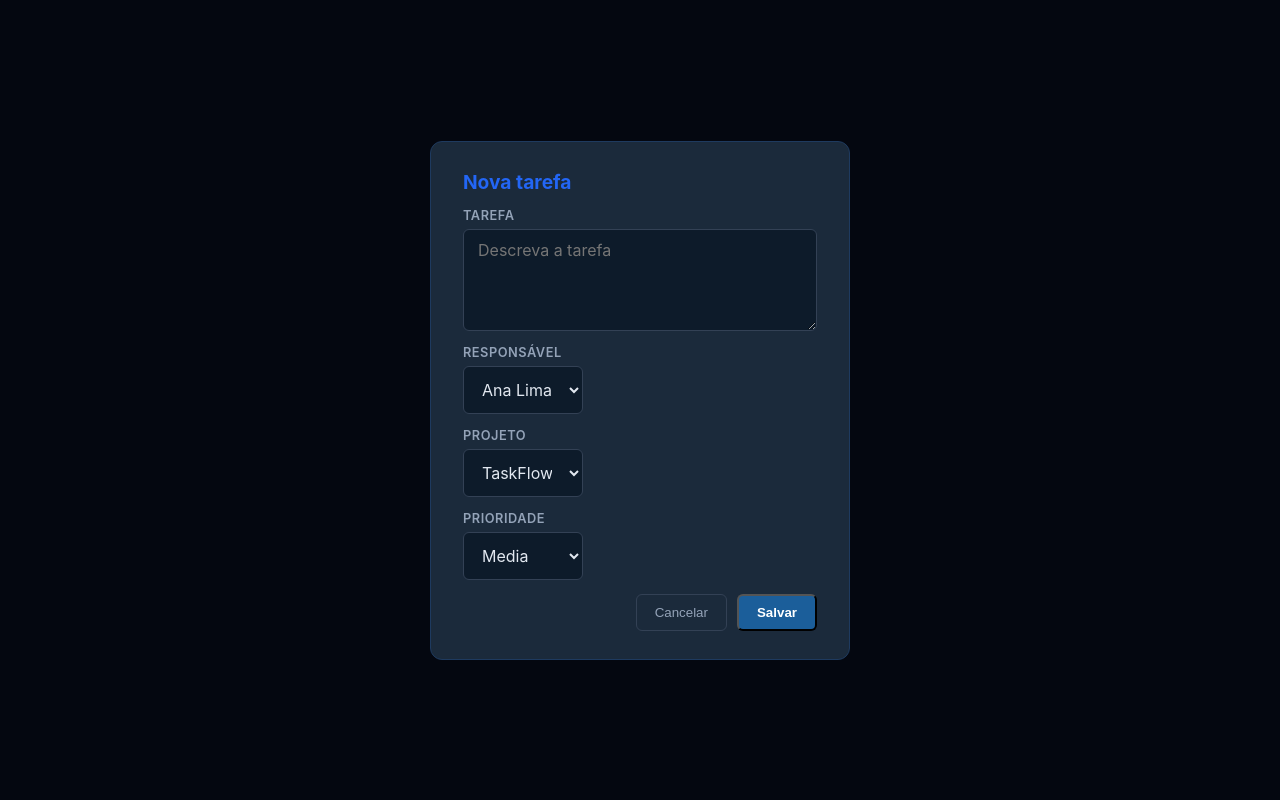
Test case: ModalTarefa › com um onSalvar que nunca responde, o botão vira "Salvando..." e fica desabilitado
The width and height of the screenshot is (1280, 800).
Step 1. Type "Estudar React" into the text box labelled "Tarefa" → (640, 280), box top-left (463, 228), bottom-right (817, 330)
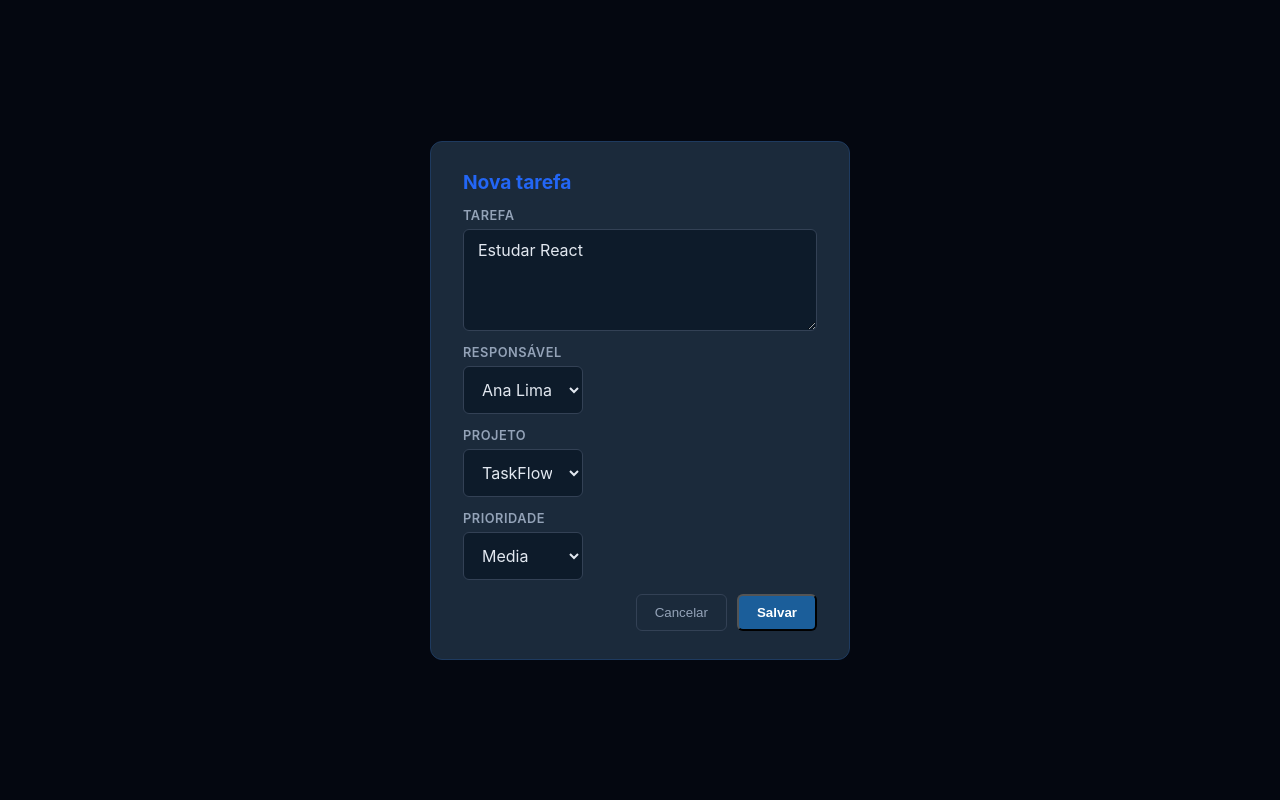
Step 2. Click the button "Salvar" → (777, 612), box top-left (737, 594), bottom-right (817, 630)
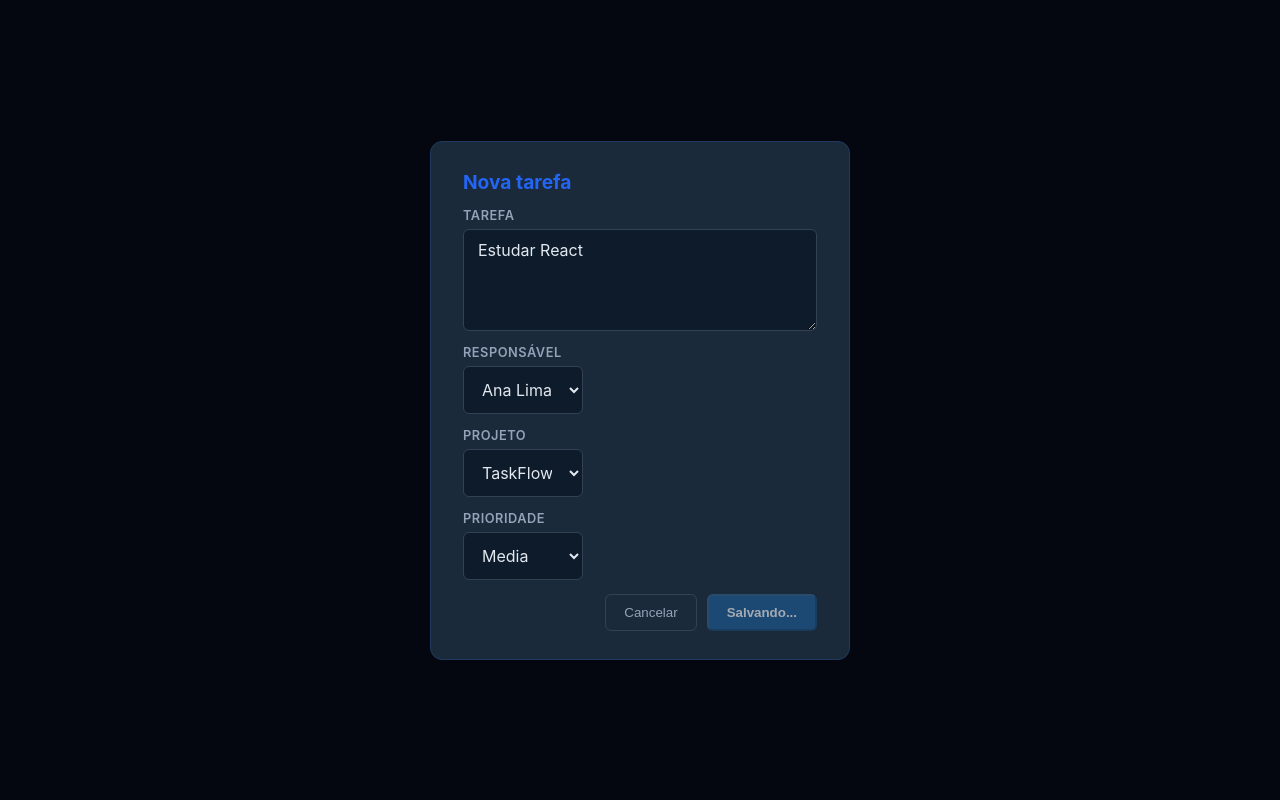
Now the button "Salvando..." is disabled, box top-left (707, 594), bottom-right (817, 630)
